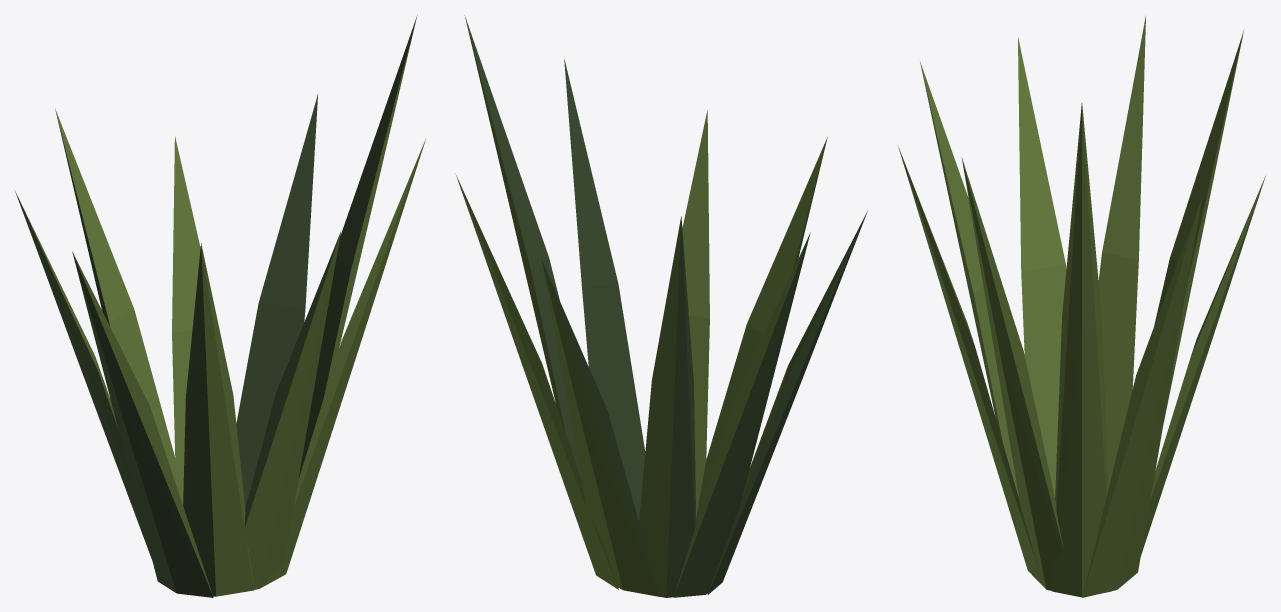
The model's file is TW_GRASS_TALL_A_LOD0.glb.
3 views of the same model, side by side, from view 1: azimuth 30°, elevation 25°; view 2: azimuth 150°, elevation 25°; view 3: azimuth 270°, elevation 25° (orthographic). The views are drawn at different scales.
Visible parts, largest first — view 1: TW_GRASS_TALL_A_LOD0; view 2: TW_GRASS_TALL_A_LOD0; view 3: TW_GRASS_TALL_A_LOD0.
Boxes of the visible parts, left/top/right/bottom form: TW_GRASS_TALL_A_LOD0: left=15, top=15, right=425, bottom=597; TW_GRASS_TALL_A_LOD0: left=456, top=15, right=867, bottom=597; TW_GRASS_TALL_A_LOD0: left=898, top=16, right=1265, bottom=597.
Bounding box in the file's own units: 0.65 × 0.85 × 0.5.
Materials: 1 (1 with a texture image).
